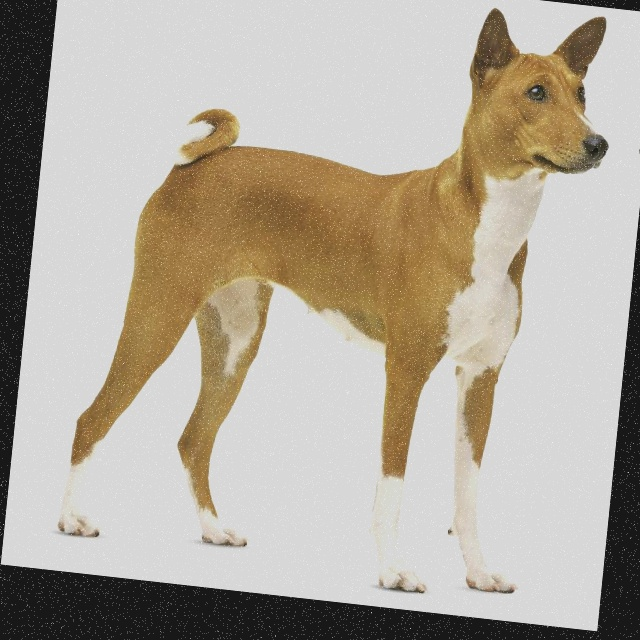dog: (419, 0, 636, 196), (623, 15, 640, 198)
